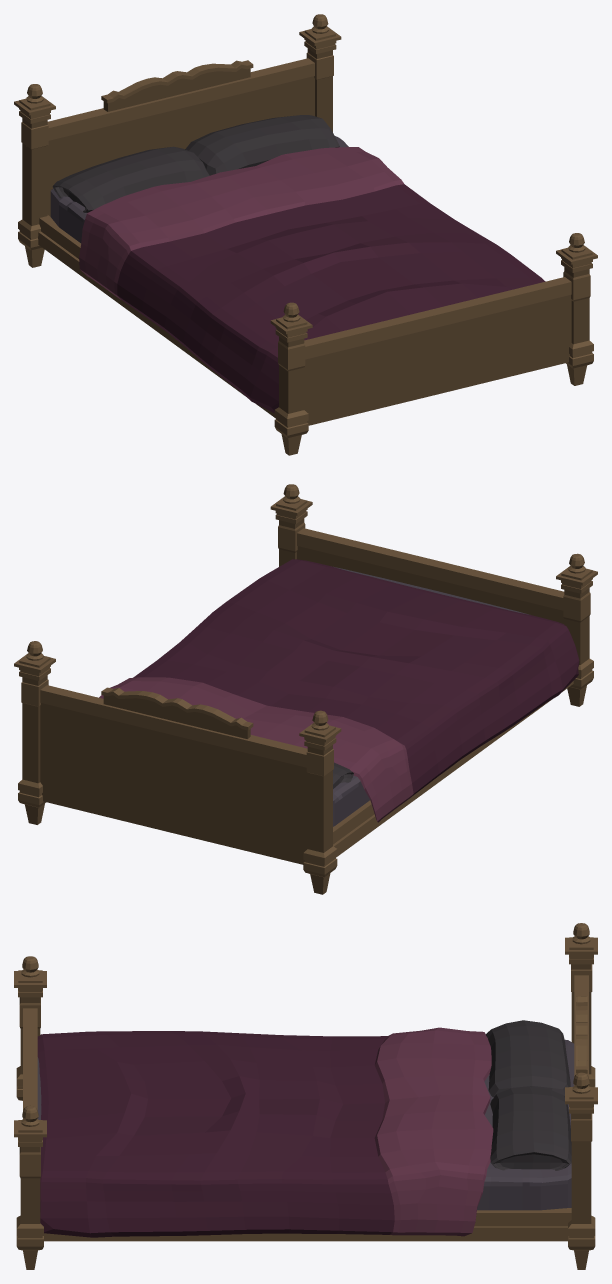
The model's file is BedDouble.glb.
3 views of the same model, one above another, from view 1: azimuth 30°, elevation 25°; view 2: azimuth 150°, elevation 25°; view 3: azimuth 270°, elevation 25° (orthographic). The views are drawn at different scales.
Visible parts, largest first — view 1: BedDouble; view 2: BedDouble; view 3: BedDouble.
Boxes of the visible parts, x1=… form: BedDouble: x1=14, y1=14, x2=597, y2=455; BedDouble: x1=14, y1=484, x2=597, y2=894; BedDouble: x1=14, y1=923, x2=597, y2=1269.
Size of the model in its own units: 1.88 by 1.04 by 2.83.
Materials: 6 (6 with a texture image).
